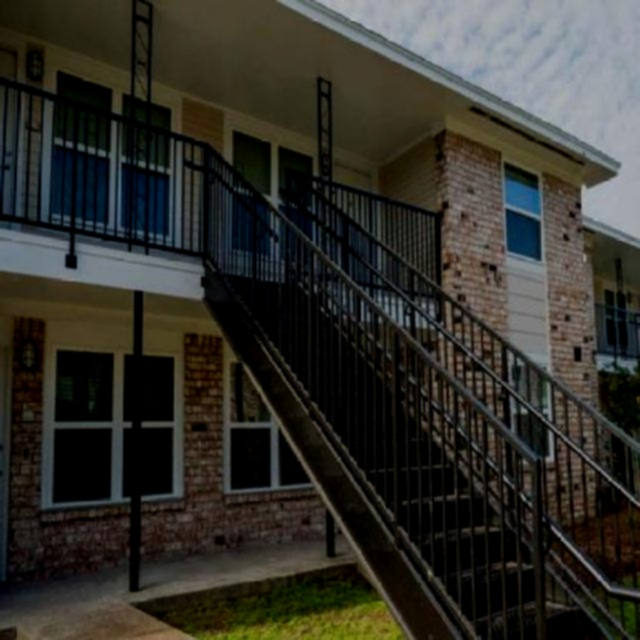stair: (162, 136, 639, 639)
